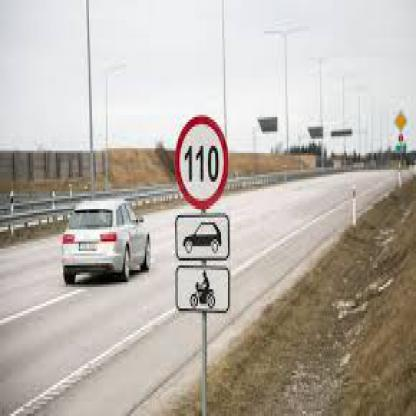Speed Limit 110: (176, 116, 227, 207)
